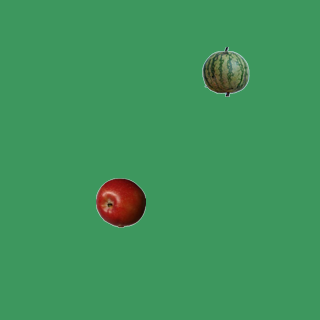Apple Braeburn: (95, 177, 145, 227)
Watermelon: (200, 46, 250, 96)
